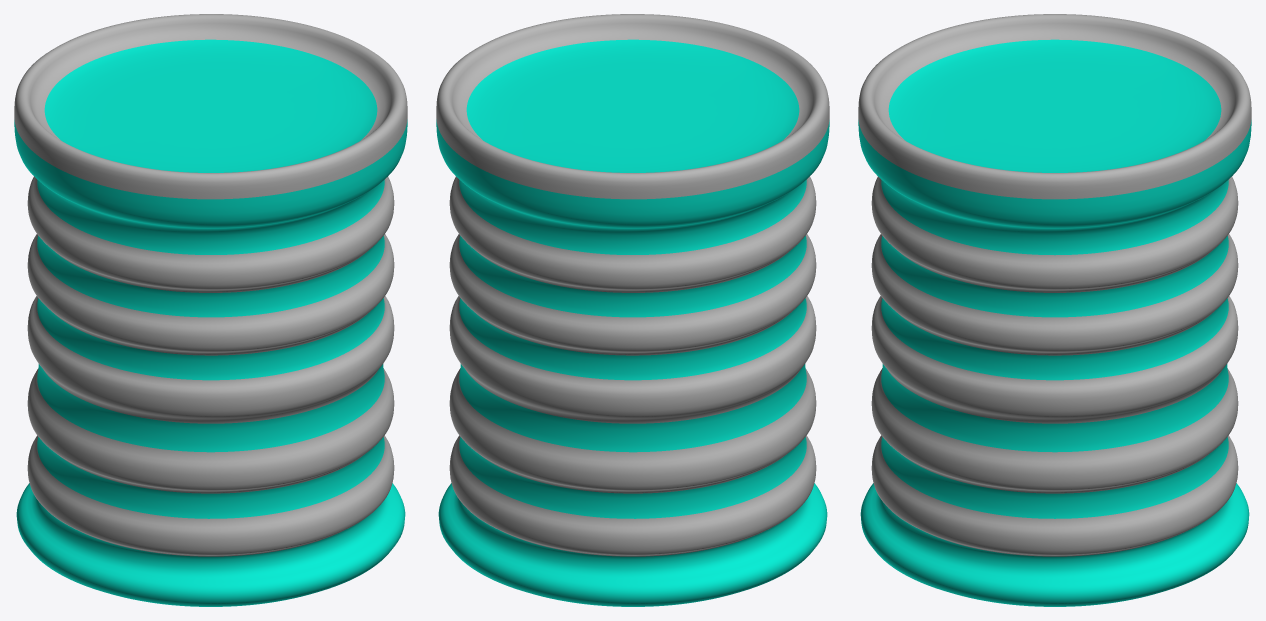
Rendered from Deco_TonelBlue.fbx.
The picture shows the model from 3 angles, left to right: view 1: azimuth 30°, elevation 25°; view 2: azimuth 150°, elevation 25°; view 3: azimuth 270°, elevation 25°; orthographic projection.
Visible parts, largest first — view 1: Circle.001; view 2: Circle.001; view 3: Circle.001.
Part boxes in pixels (box(x1,y1,x2,y2)): Circle.001: box(14, 14, 407, 606); Circle.001: box(436, 14, 829, 606); Circle.001: box(858, 14, 1251, 606).
Bounding box in the file's own units: 99.58 × 99.58 × 123.
